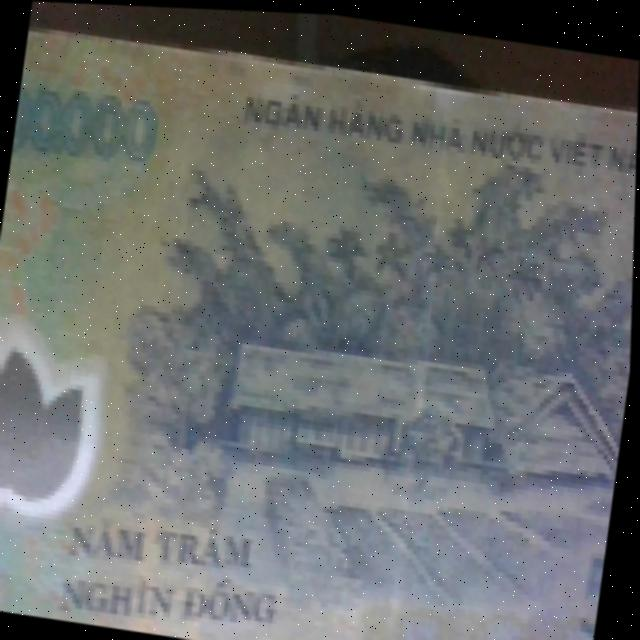500 000 VND: (0, 5, 640, 640)
